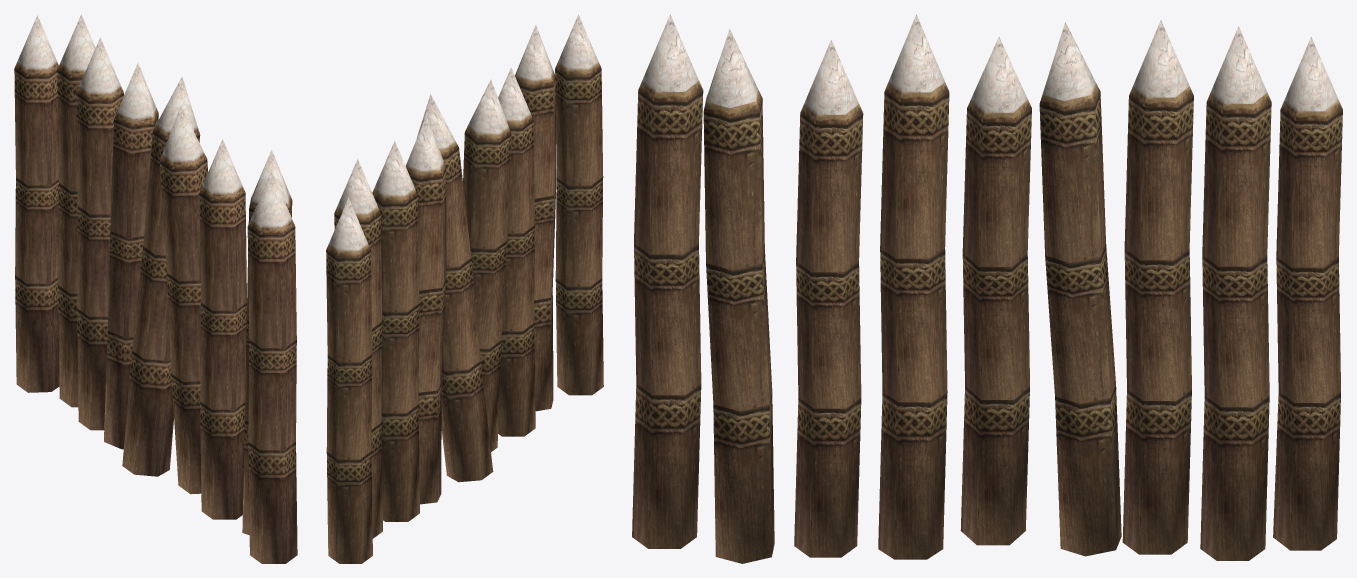
File: logs_sharp.obj
3 views of the same model, side by side, from view 1: azimuth 30°, elevation 25°; view 2: azimuth 150°, elevation 25°; view 3: azimuth 270°, elevation 25° (orthographic). The views are drawn at different scales.
Bounding box in the file's own units: 130 × 702 × 861.
